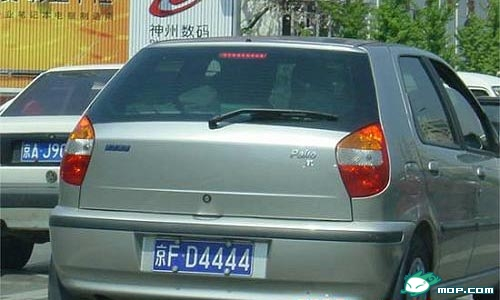plate_number: (150, 236, 257, 277)
